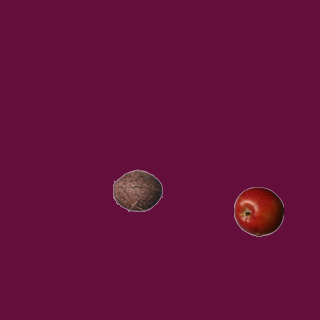Apple Braeburn: (233, 186, 283, 236)
Cocos: (112, 165, 162, 215)
